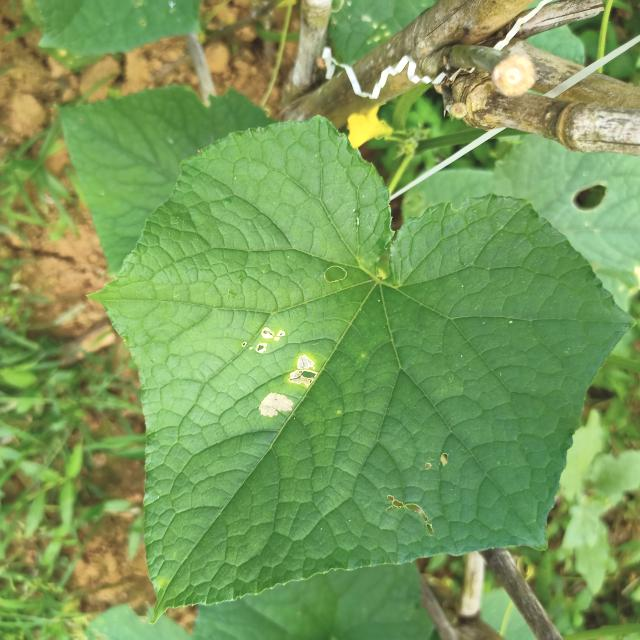disease_cucumber: (250, 319, 330, 423)
